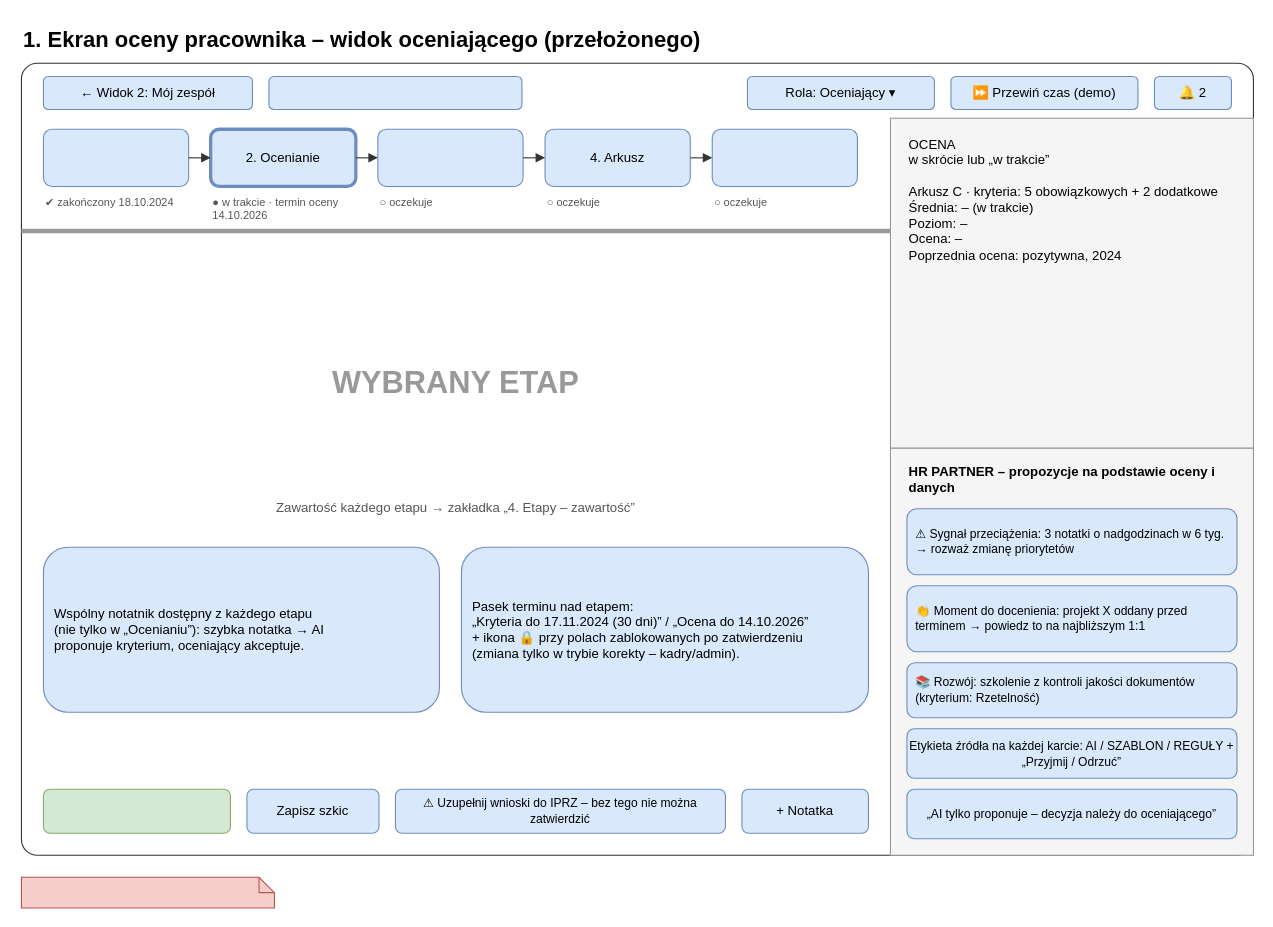
Some shapes in this 1273 by 927 pixel diagram are drawn without their labels. Each missing label, with the box of its shape:
1. Rozmowa rozpoczynająca proces oceny: (42, 128, 189, 186)
3. Rozmowa oceniająca: (377, 128, 523, 186)
5. Zapoznanie i podpis ocenianego: (711, 128, 857, 186)
Komentarz / uzasadnienie: (20, 876, 274, 908)
Pracownik: Jan Kowalski ▾ ✕: (268, 75, 522, 109)
Zatwierdź etap ✓: (42, 788, 230, 833)
